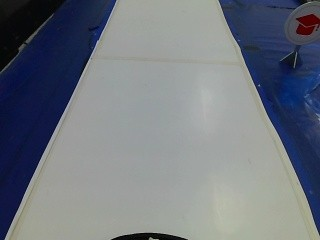school: (287, 3, 318, 44)
